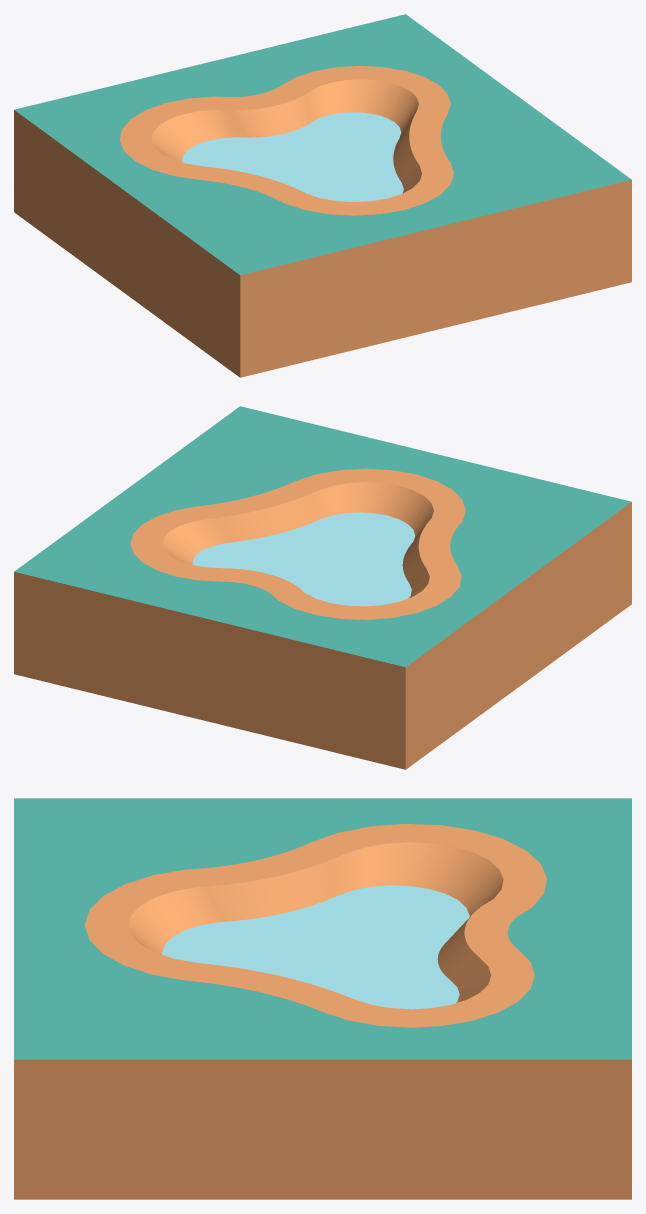
The model's file is ground_dirtRiverTile.fbx.
The picture shows the model from 3 angles, top to bottom: view 1: azimuth 30°, elevation 25°; view 2: azimuth 150°, elevation 25°; view 3: azimuth 270°, elevation 25°; orthographic projection. The views are drawn at different scales.
Parts seen in each view (by area): view 1: ground_dirtRiverTile; view 2: ground_dirtRiverTile; view 3: ground_dirtRiverTile.
Part boxes in pixels (x1=…): ground_dirtRiverTile: x1=14, y1=14, x2=631, y2=377; ground_dirtRiverTile: x1=14, y1=406, x2=631, y2=769; ground_dirtRiverTile: x1=14, y1=798, x2=631, y2=1199.
Bounding box in the file's own units: 10 × 2.5 × 10.
